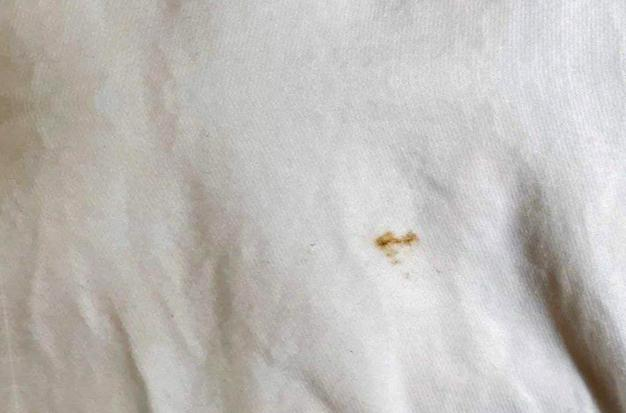stain: (375, 221, 421, 273)
